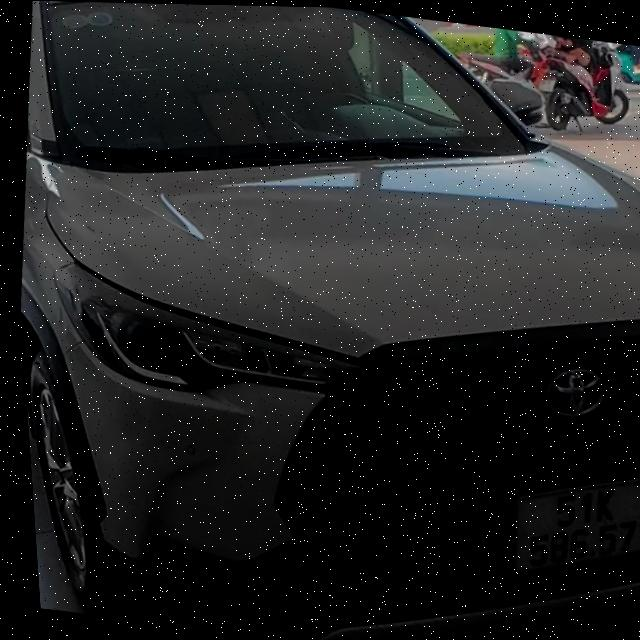car: (0, 0, 640, 640)
plate: (496, 458, 640, 591)
